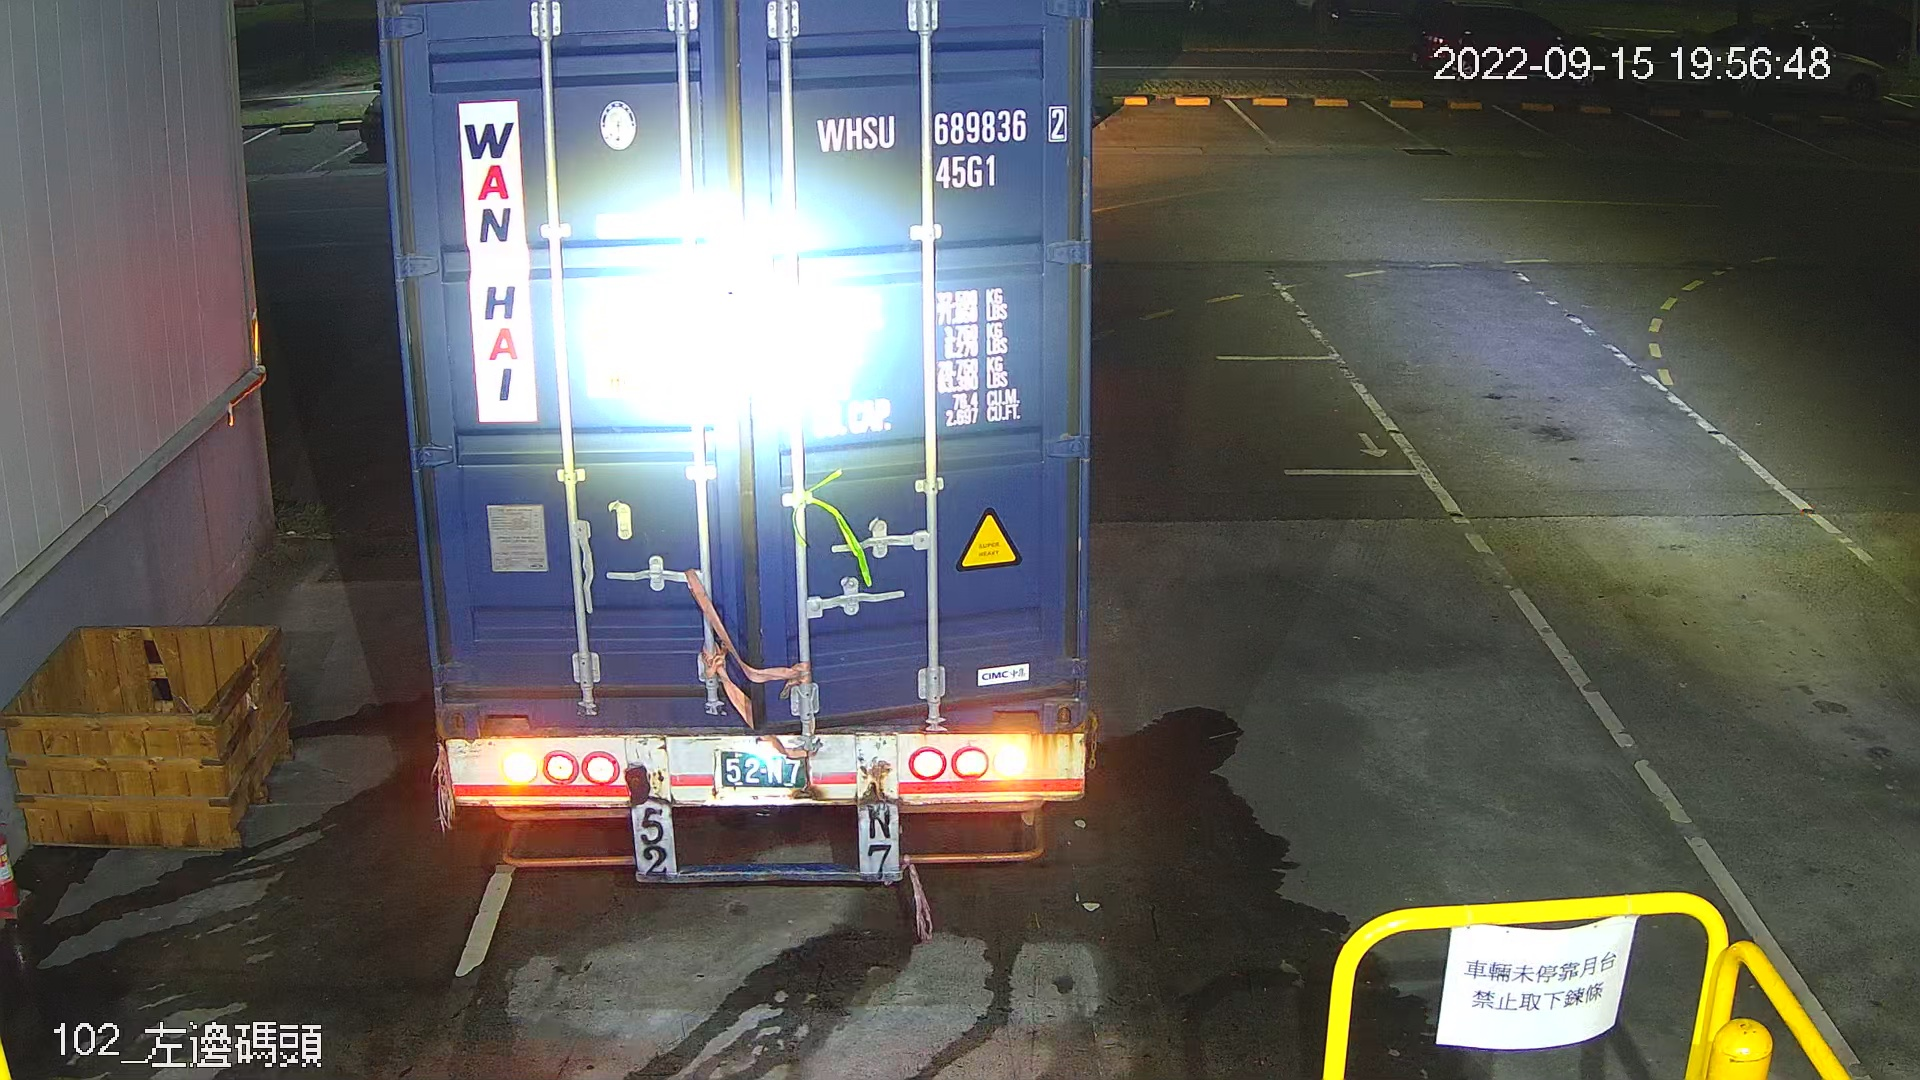container: (804, 98, 1081, 204)
